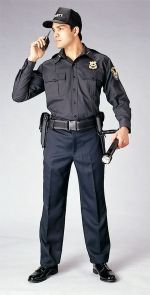gun: (39, 106, 55, 162)
uniform: (40, 36, 116, 276)
